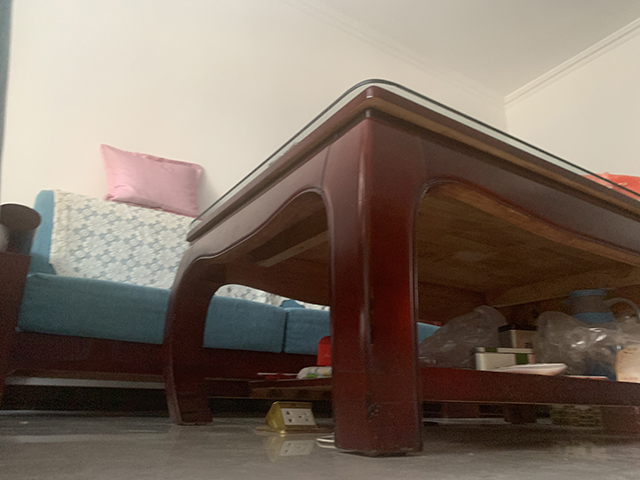sofa: (1, 143, 330, 413)
table: (161, 78, 640, 460)
